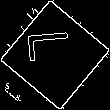L_E: (29, 37, 81, 73)
